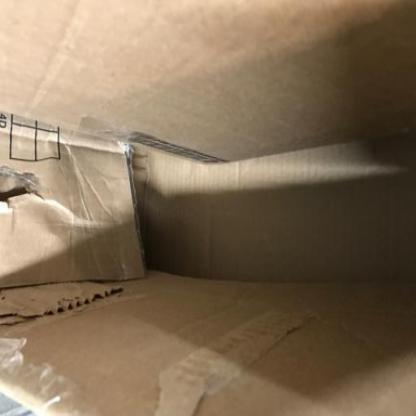CARDBOARD: (0, 0, 415, 415), (0, 0, 416, 163), (0, 267, 415, 415), (128, 148, 416, 280)
